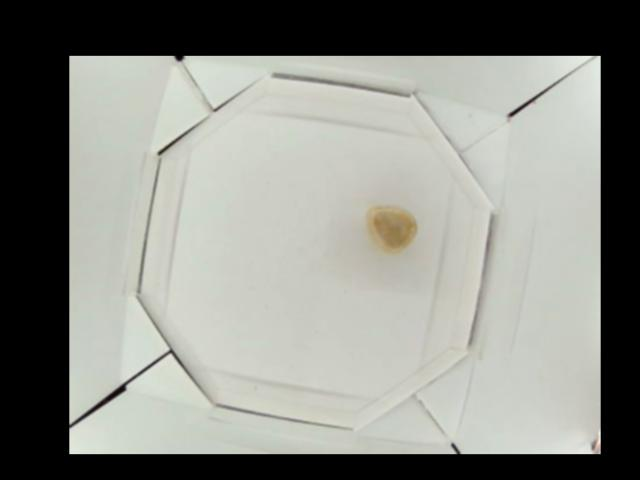Pebble: (364, 205, 418, 254)
